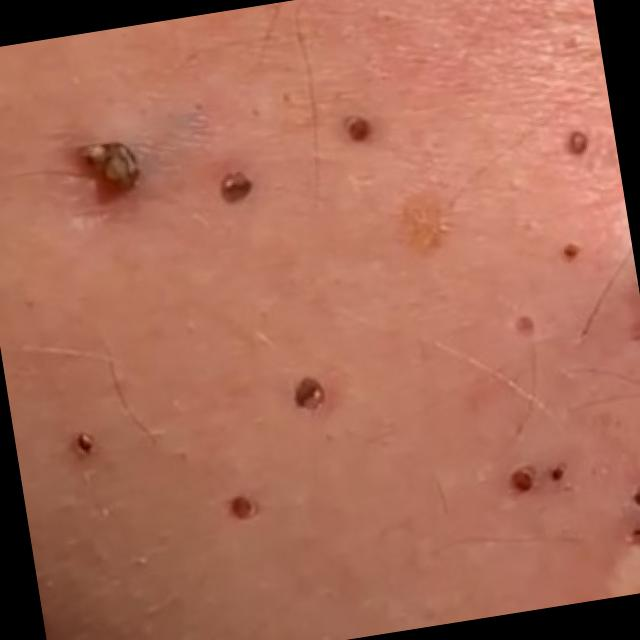blackhead: (83, 142, 138, 196), (294, 376, 327, 410), (220, 172, 250, 202), (348, 117, 370, 141), (232, 495, 252, 520), (568, 132, 588, 156), (512, 470, 532, 492), (563, 243, 580, 260), (78, 432, 94, 450), (550, 468, 562, 481), (633, 527, 640, 543)
